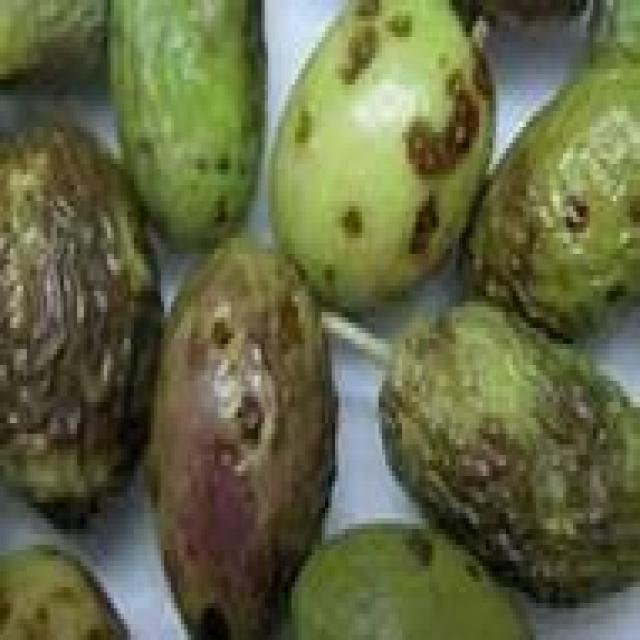Olive Fruit Fly: (379, 301, 637, 608), (151, 238, 335, 635), (278, 0, 489, 301), (0, 122, 157, 524), (466, 42, 637, 333), (111, 0, 261, 243), (292, 524, 529, 635)
